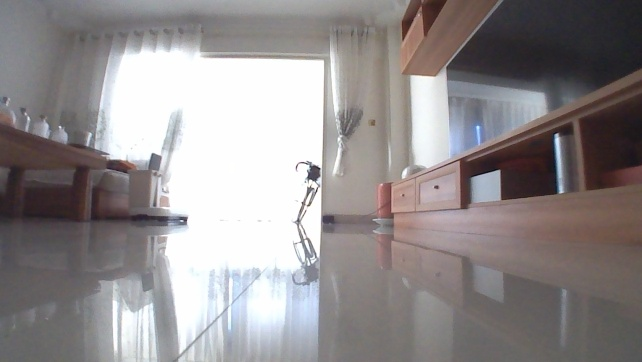TV_stand: (386, 67, 641, 236)
sofa1: (0, 163, 145, 223)
